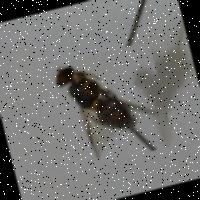Oriental-fruit-fly: (40, 40, 175, 172)
